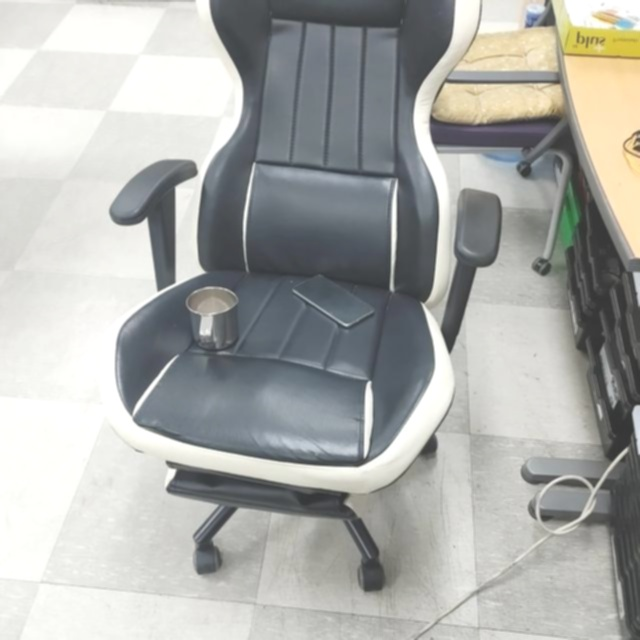cup: (185, 283, 239, 354)
phone: (292, 271, 376, 331)
